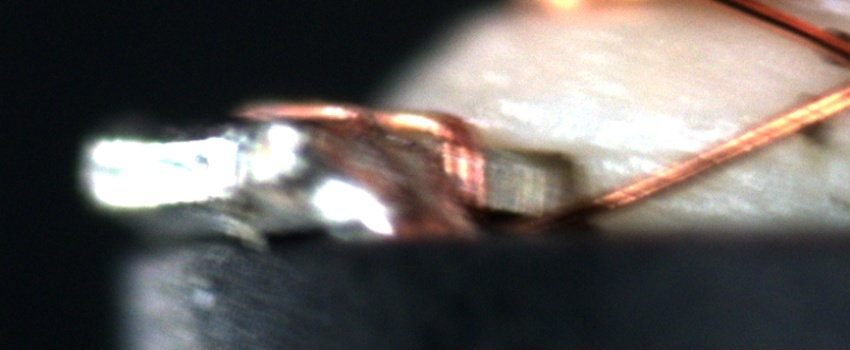DL: (594, 130, 707, 172)
TE: (244, 95, 499, 214)
